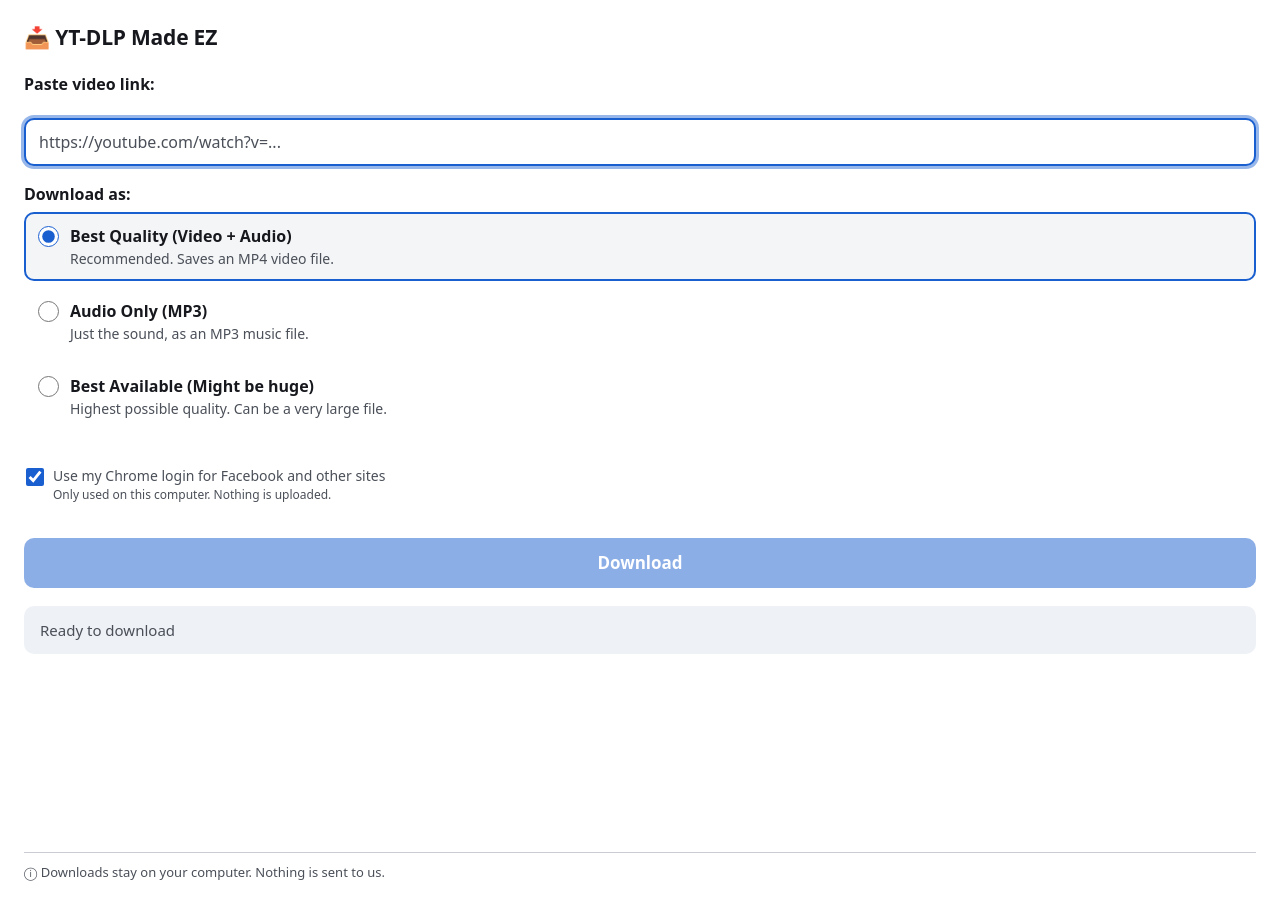
Scenario: download › announces success in the spec's words
The width and height of the screenshot is (1280, 900).
In the field labelled "Paste video link:": (640, 142) [24,118,1256,166], type "https://youtu.be/x"
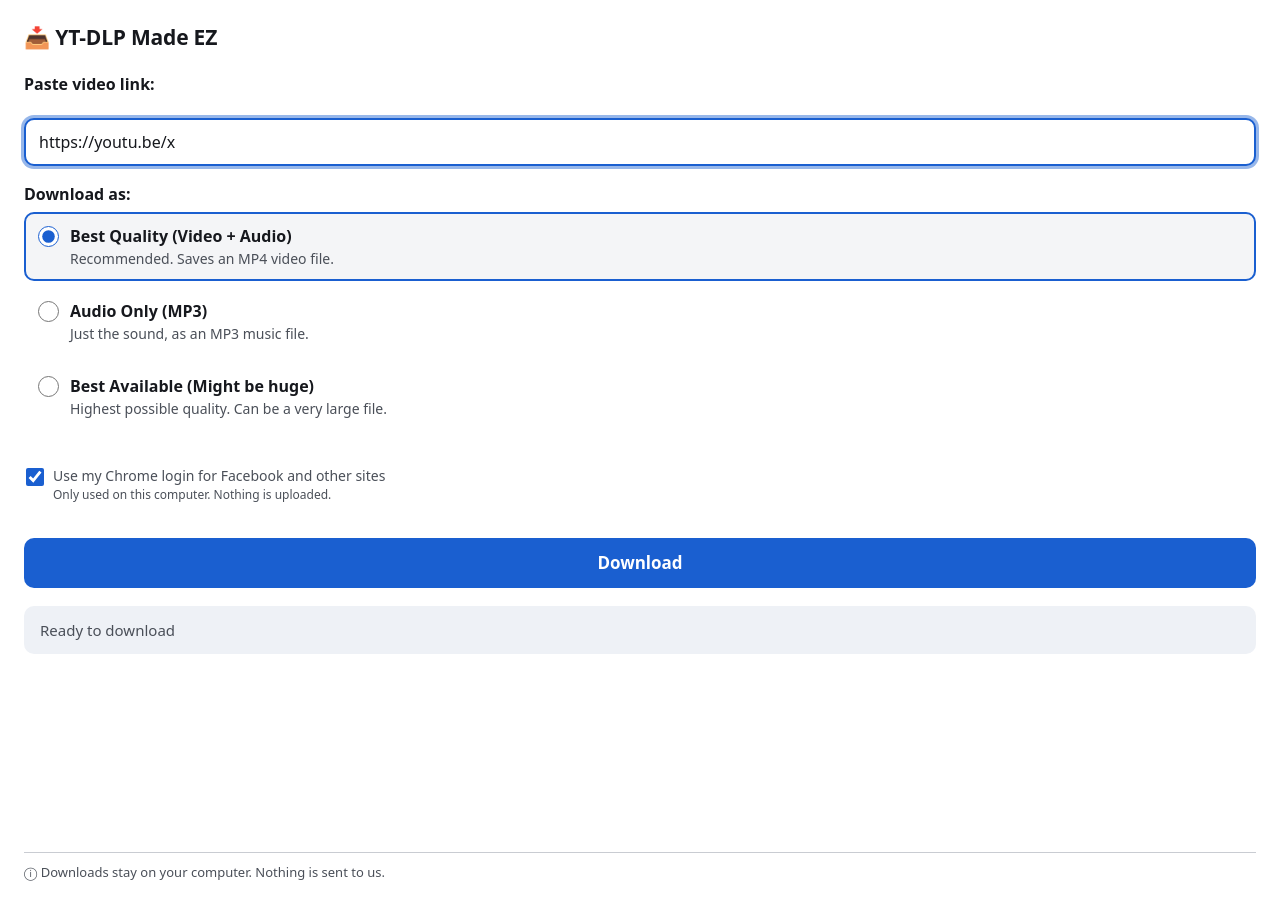
Click the button "Download": (640, 563) [24,538,1256,588]
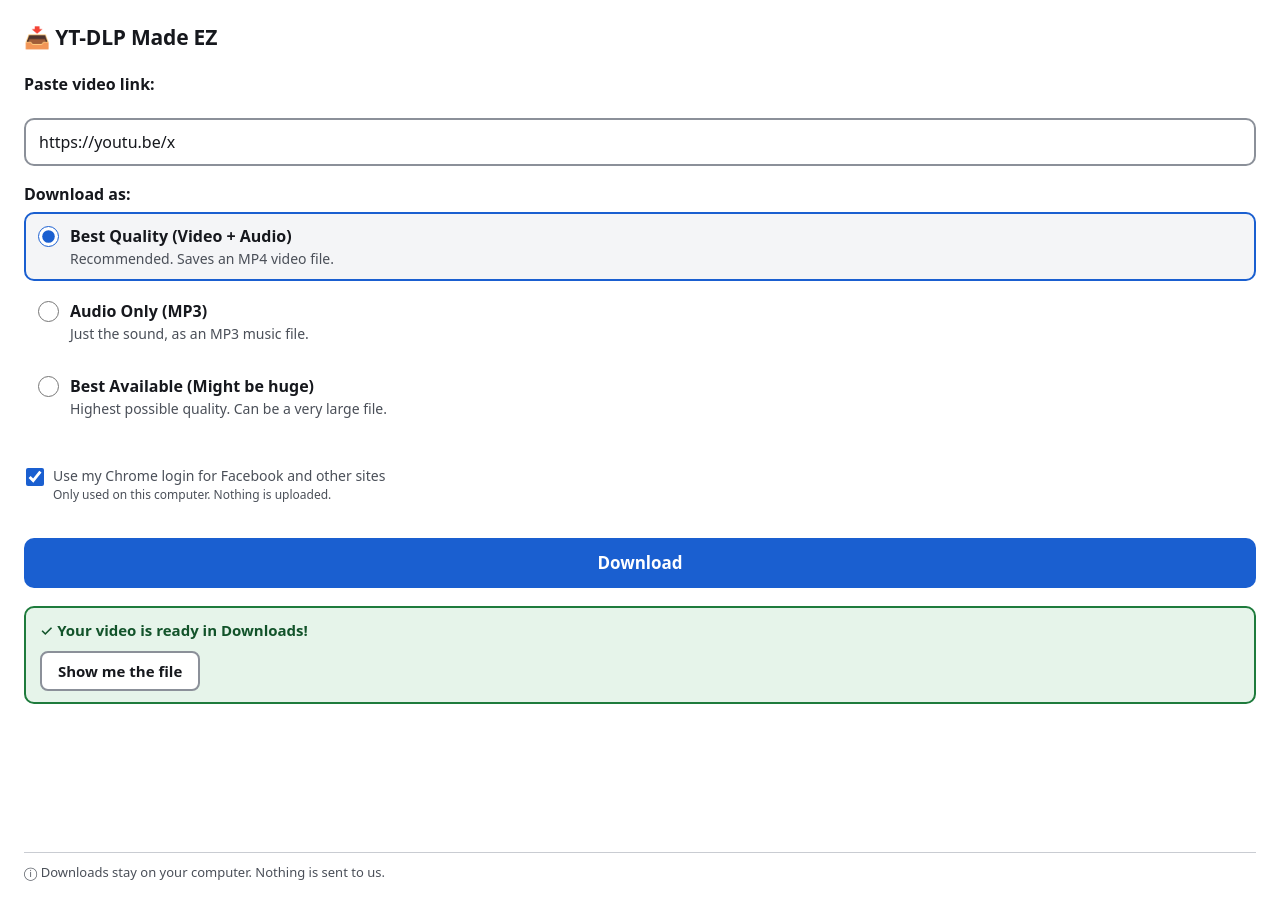
Check: the message shows "Your video is ready in Downloads", box [57,620,308,640]
